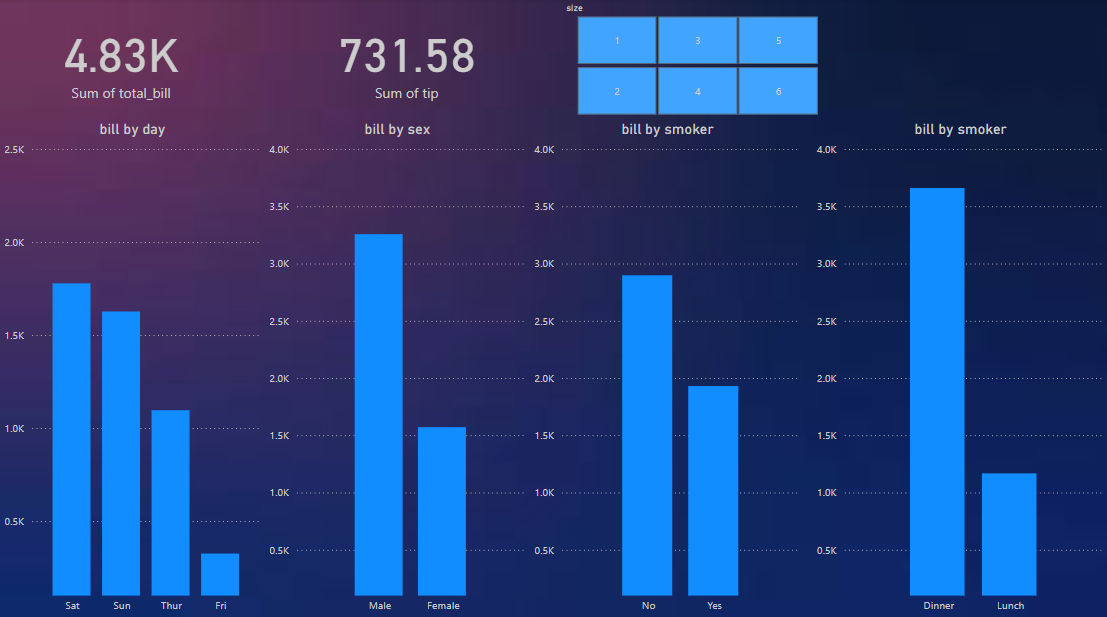

What the dashboard file says about the page in this screenshot:
{"tool":"powerbi","page":{"name":"Page 1","canvas":[1280,720],"ordinal":0},"visuals":[{"type":"columnChart","title":"bill by day","fields":{"Y":["Sum(Hotel_bill.total_bill)"],"Category":["Hotel_bill.day"]},"box":[0,141.4,305.9,578.5],"z":0},{"type":"card","fields":{"Values":["Sum(Hotel_bill.total_bill)"]},"box":[0,0,279.9,141.4],"z":1},{"type":"columnChart","title":"bill by sex","fields":{"Y":["Sum(Hotel_bill.total_bill)"],"Category":["Hotel_bill.sex"]},"box":[305.9,141.4,305.9,578.5],"z":2},{"type":"columnChart","title":"bill by smoker","fields":{"Y":["Sum(Hotel_bill.total_bill)"],"Category":["Hotel_bill.smoker"]},"box":[611.7,141.4,317.4,578.5],"z":3},{"type":"columnChart","title":"bill by smoker","fields":{"Category":["Hotel_bill.time"],"Y":["Sum(Hotel_bill.total_bill)"]},"box":[937.8,141.4,341.9,578.5],"z":4},{"type":"slicer","fields":{"Values":["Hotel_bill.size"]},"box":[640.6,0,327.5,141.4],"z":5},{"type":"card","fields":{"Values":["Sum(Hotel_bill.tip)"]},"box":[327.5,0,284.2,141.4],"z":6}]}

Visuals, with their boxes in screenshot pixels (x1, y1, x2, y2), scaled from the page's 1280x720 canvas onto the 1107x617 screenshot:
"bill by day" columnChart: select_region(0, 121, 265, 616)
card - Sum(Hotel_bill.total_bill): select_region(0, 0, 242, 121)
"bill by sex" columnChart: select_region(265, 121, 529, 616)
"bill by smoker" columnChart: select_region(529, 121, 804, 616)
"bill by smoker" columnChart: select_region(811, 121, 1106, 616)
slicer - Hotel_bill.size: select_region(554, 0, 837, 121)
card - Sum(Hotel_bill.tip): select_region(283, 0, 529, 121)
